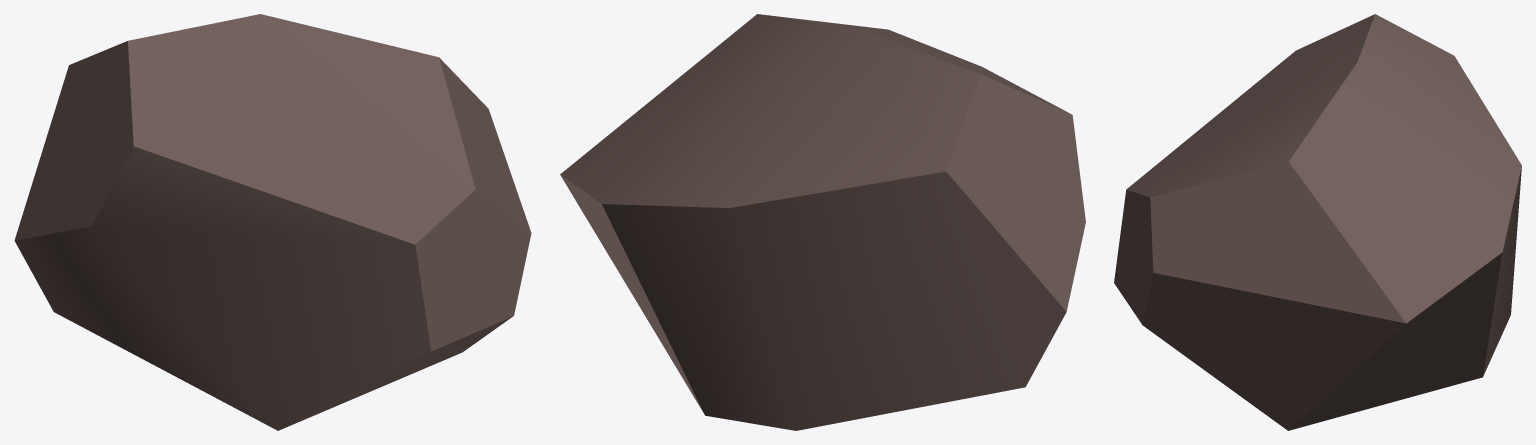
Rendered from env_clutter_pebble03.fbx.
The picture shows the model from 3 angles, left to right: view 1: azimuth 30°, elevation 25°; view 2: azimuth 150°, elevation 25°; view 3: azimuth 270°, elevation 25°; orthographic projection. The views are drawn at different scales.
Visible parts, largest first — view 1: clutter_pebble03; view 2: clutter_pebble03; view 3: clutter_pebble03.
Boxes of the visible parts, <box> form: clutter_pebble03: <box>14,14,531,430</box>; clutter_pebble03: <box>560,14,1085,430</box>; clutter_pebble03: <box>1114,14,1521,430</box>.
Bounding box in the file's own units: 3.64 × 2.55 × 3.13.
